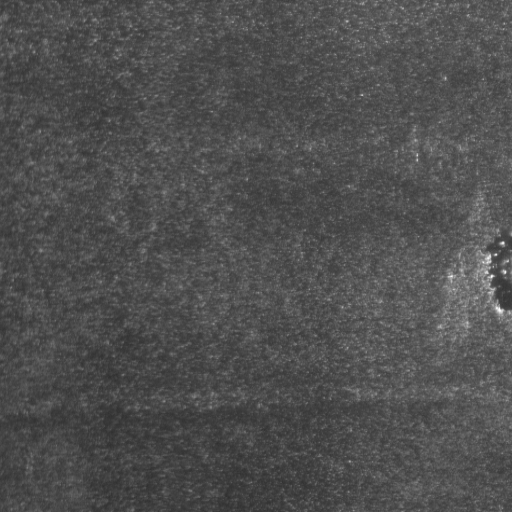aokeng: (481, 227, 512, 317)
